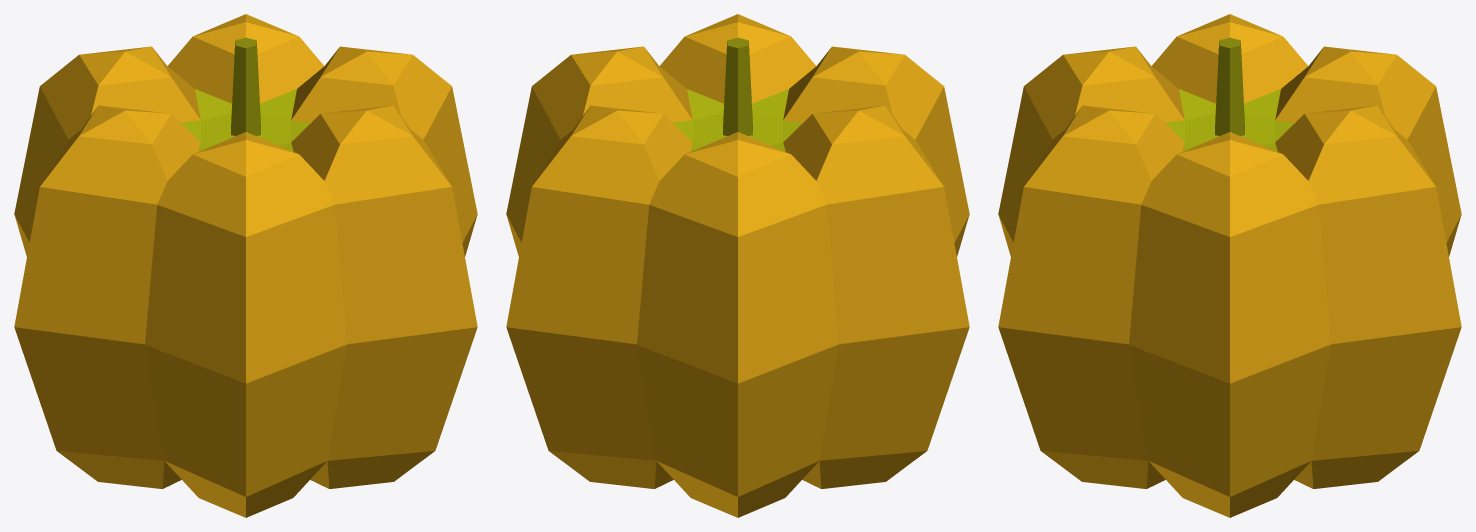
The model's file is Pepper_Yellow.fbx.
3 renders of one model, left to right at view 1: azimuth 30°, elevation 25°; view 2: azimuth 150°, elevation 25°; view 3: azimuth 270°, elevation 25°, orthographic.
Visible parts, largest first — view 1: Pepper_Yellow_Top, Pepper_Yellow_Down, Pepper_Yellow_All; view 2: Pepper_Yellow_All, Pepper_Yellow_Top, Pepper_Yellow_Down; view 3: Pepper_Yellow_Top, Pepper_Yellow_All, Pepper_Yellow_Down.
Part boxes in pixels (x1,y1,x2,y2): Pepper_Yellow_Top: (14, 14, 477, 383); Pepper_Yellow_Down: (14, 215, 477, 517); Pepper_Yellow_All: (14, 14, 410, 488); Pepper_Yellow_All: (506, 22, 969, 517); Pepper_Yellow_Top: (506, 14, 969, 383); Pepper_Yellow_Down: (506, 215, 969, 517); Pepper_Yellow_Top: (998, 14, 1461, 383); Pepper_Yellow_All: (1040, 14, 1461, 517); Pepper_Yellow_Down: (998, 215, 1461, 517).
Bounding box in the file's own units: 6.98 × 5.95 × 6.04.
